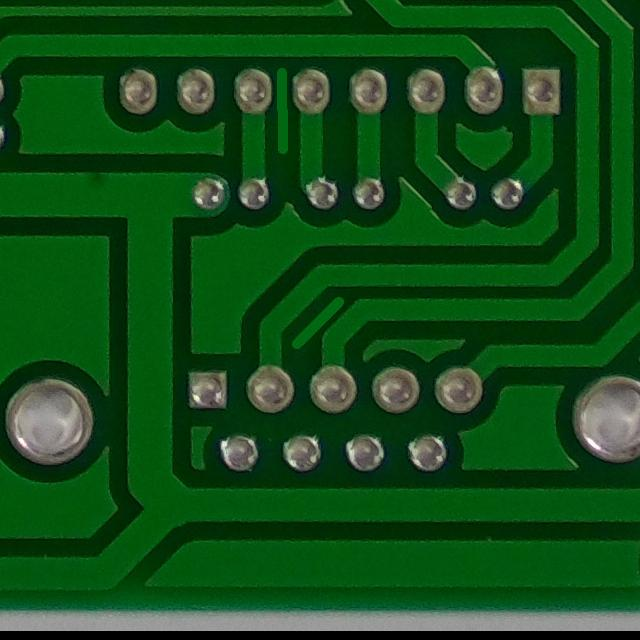spurious_copper: (275, 284, 365, 357)
